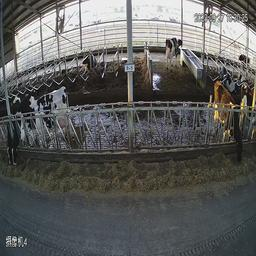cow: (19, 88, 65, 150), (213, 79, 243, 164), (10, 90, 37, 165), (5, 91, 22, 163), (165, 37, 181, 70), (81, 52, 97, 73)
